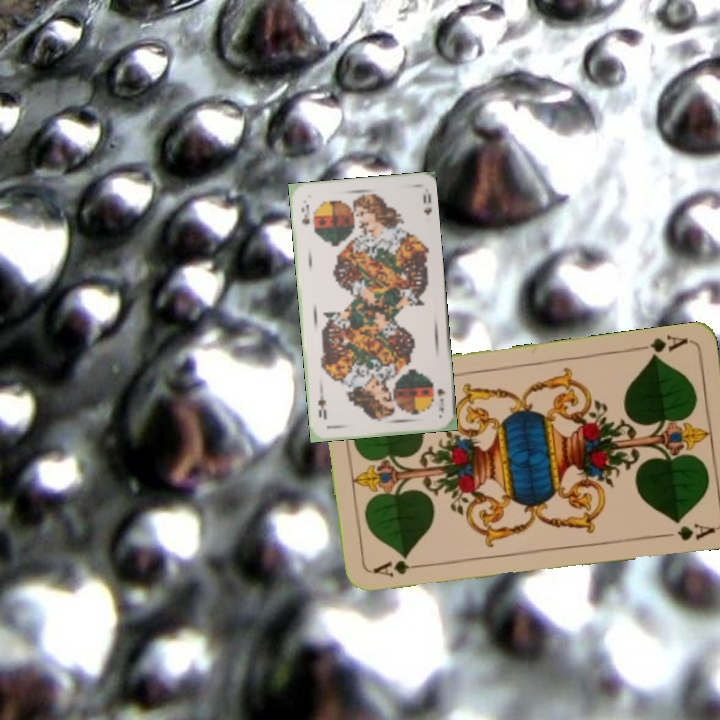GA: (632, 332, 691, 362), (370, 555, 428, 580)
SO: (433, 385, 448, 415), (297, 201, 312, 227)
